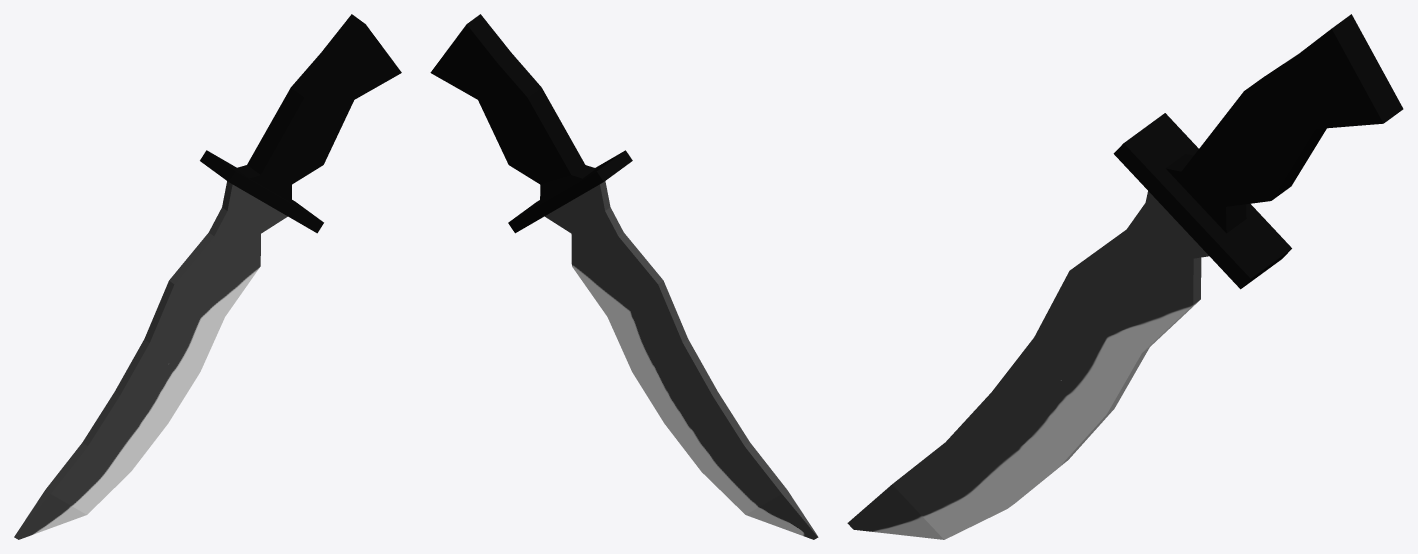
File: Knife.fbx
The picture shows the model from 3 angles, left to right: view 1: azimuth 30°, elevation 25°; view 2: azimuth 150°, elevation 25°; view 3: azimuth 330°, elevation 25°; orthographic projection. The views are drawn at different scales.
Parts seen in each view (by area): view 1: Cube.001; view 2: Cube.001; view 3: Cube.001.
Boxes of the visible parts, x1,y1,x2,y2 form: Cube.001: (14,14,401,539); Cube.001: (430,14,818,539); Cube.001: (847,14,1403,539).
Size of the model in its own units: 22.42 by 24.61 by 2.97.
